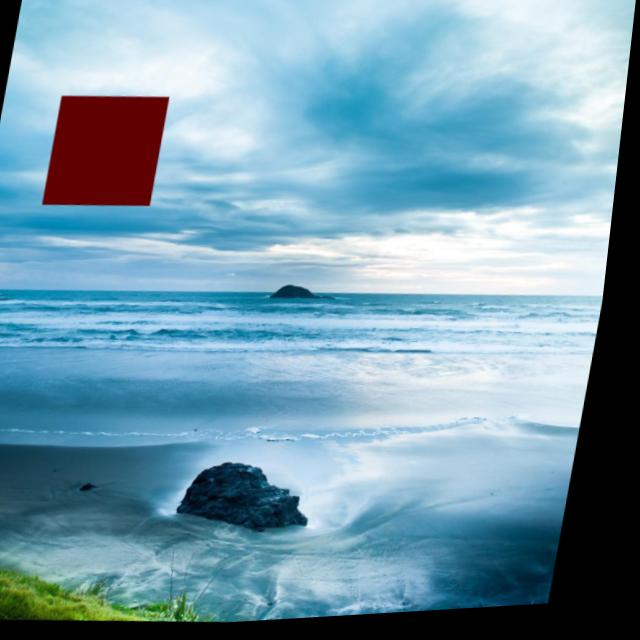RedSquare: (38, 78, 189, 227)
